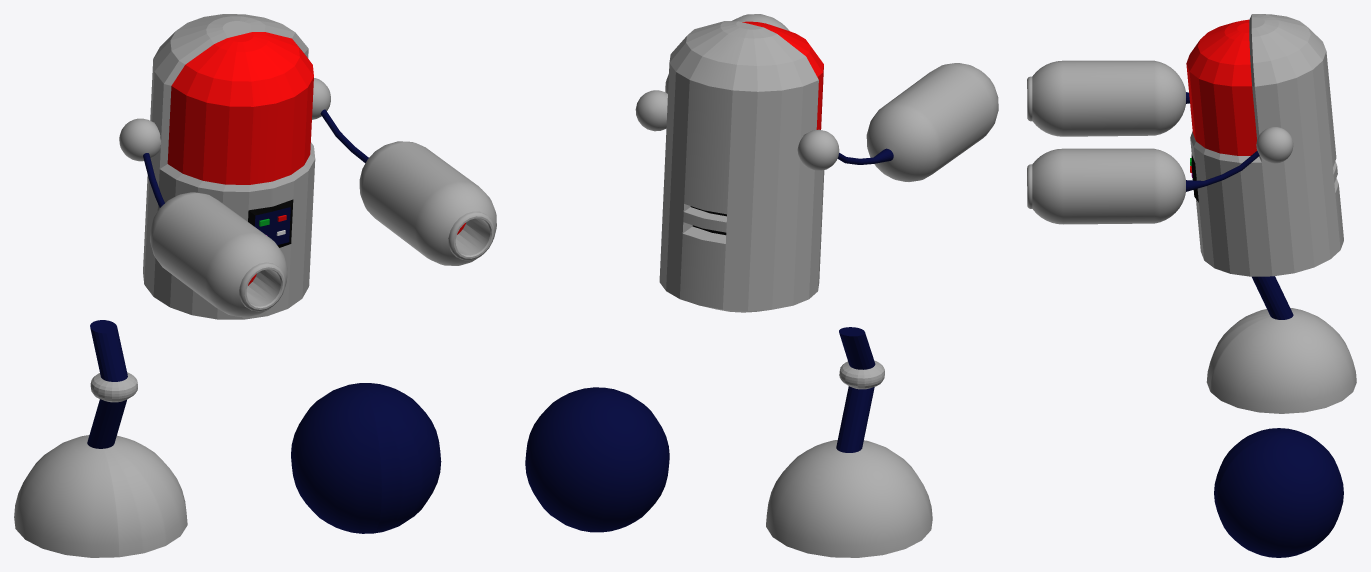
3 views of the same model, side by side, from view 1: azimuth 30°, elevation 25°; view 2: azimuth 150°, elevation 25°; view 3: azimuth 270°, elevation 25° (orthographic). The views are drawn at different scales.
Visible parts, largest first — view 1: polySurface9, polySurface8, polySurface6, polySurface4, polySurface5; view 2: polySurface9, polySurface8, polySurface6, polySurface4, polySurface5; view 3: polySurface9, polySurface8, polySurface6, polySurface5, polySurface4.
Boxes of the visible parts, x1,y1,x2,y2 form: polySurface9: [143, 14, 315, 319]; polySurface8: [14, 320, 187, 557]; polySurface6: [291, 383, 441, 533]; polySurface4: [119, 118, 287, 317]; polySurface5: [312, 78, 496, 265]; polySurface9: [659, 21, 824, 312]; polySurface8: [766, 327, 932, 557]; polySurface6: [525, 387, 669, 532]; polySurface4: [797, 63, 998, 181]; polySurface5: [635, 14, 789, 131]; polySurface9: [1186, 14, 1343, 276]; polySurface8: [1206, 276, 1356, 413]; polySurface6: [1214, 428, 1343, 557]; polySurface5: [1027, 127, 1293, 224]; polySurface4: [1027, 60, 1189, 136].
Bounding box in the file's own units: 6.18 × 7.97 × 5.07.
